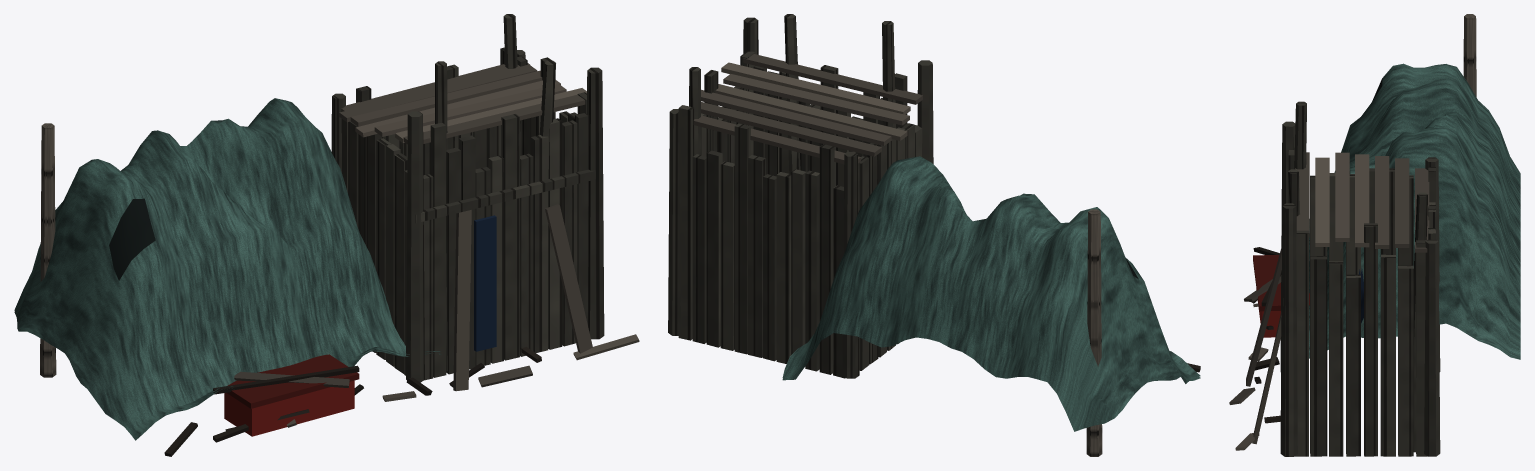
The model's file is TarHut02.glb.
3 renders of one model, left to right at view 1: azimuth 30°, elevation 25°; view 2: azimuth 150°, elevation 25°; view 3: azimuth 270°, elevation 25°, orthographic. The views are drawn at different scales.
Visible parts, largest first — view 1: TarHut02; view 2: TarHut02; view 3: TarHut02.
Boxes of the visible parts, box(x1,y1,x2,y2) form: TarHut02: box(14, 14, 639, 456); TarHut02: box(668, 14, 1200, 456); TarHut02: box(1229, 14, 1520, 456).
Size of the model in its own units: 8.42 by 4.97 by 4.6.
Materials: 20 (3 with a texture image).
